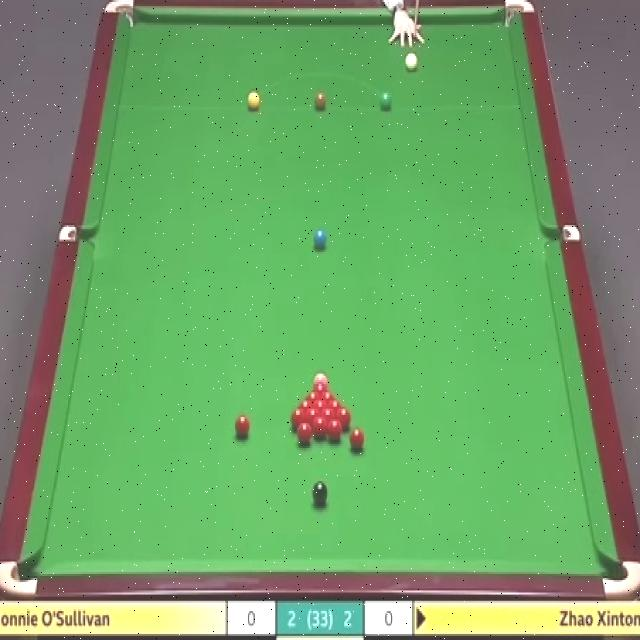black-ball: (310, 480, 326, 505)
blue-ball: (313, 230, 327, 248)
brown-ball: (315, 92, 326, 111)
green-ball: (378, 89, 393, 112)
pink-ball: (314, 373, 328, 388)
red-ball: (294, 421, 313, 445), (348, 428, 365, 450), (234, 415, 250, 438), (312, 416, 328, 438), (334, 407, 349, 429), (290, 408, 304, 430), (328, 421, 342, 442), (322, 409, 335, 430), (300, 399, 312, 412), (314, 385, 325, 397), (315, 401, 325, 414)
white-ball: (404, 52, 418, 72)
yellow-ball: (247, 91, 260, 112)
